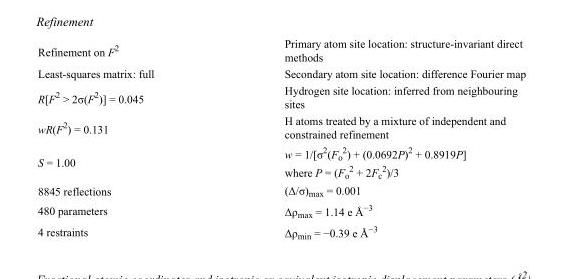table: (37, 36, 525, 240)
table column: (218, 36, 525, 240), (37, 36, 218, 240)
table row: (37, 142, 525, 181), (37, 111, 525, 142), (37, 81, 525, 111), (37, 36, 525, 64), (37, 199, 525, 221), (37, 221, 525, 240), (37, 181, 525, 199), (37, 64, 525, 81)
